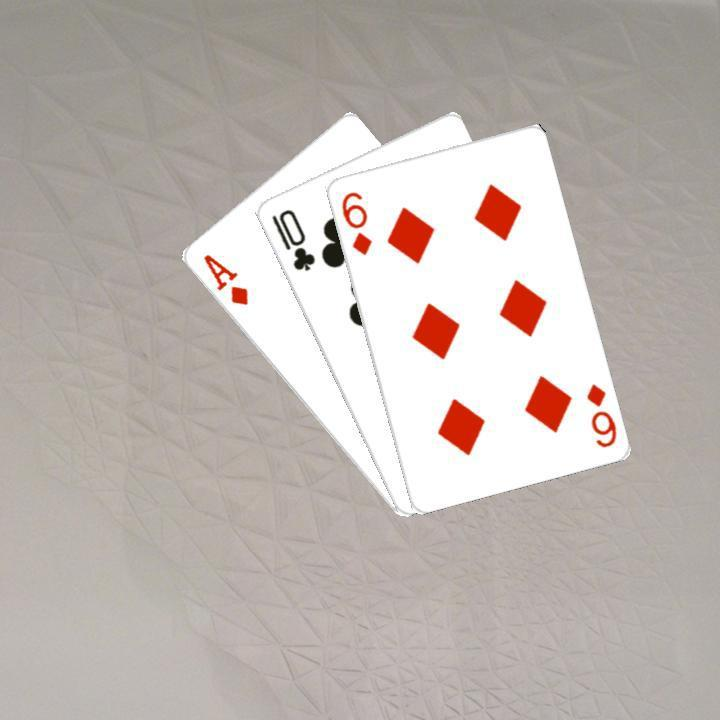10: (266, 204, 317, 273)
6: (336, 187, 374, 257), (581, 379, 618, 449)
A: (198, 249, 250, 308)
